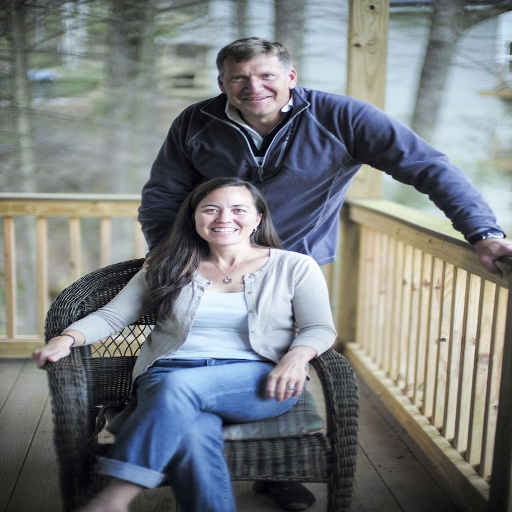hand: (33, 320, 72, 375), (262, 361, 306, 401), (474, 237, 511, 279)
